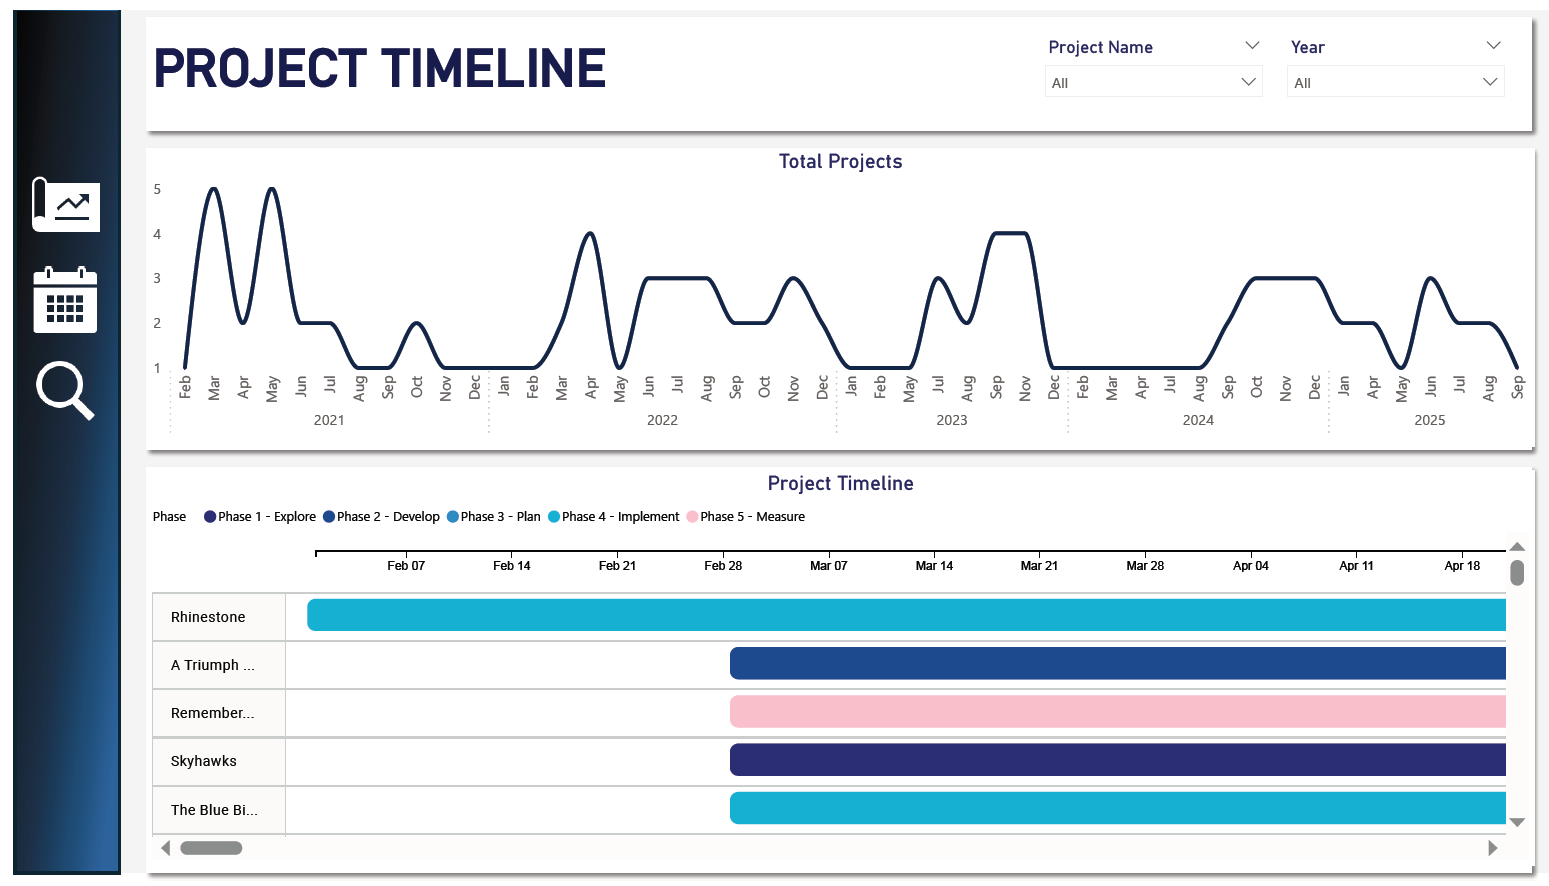

Layout of this report page (visuals, bound fields, positions):
{"tool":"powerbi","page":{"name":"Timeline","canvas":[1280,720],"ordinal":1},"visuals":[{"type":"textbox","box":[109.6,17.3,698.3,83.7],"z":0},{"type":"slicer","fields":{"Values":["Data.Project Name"]},"box":[844,17.3,200.5,63.5],"z":1},{"type":"slicer","fields":{"Values":["Date Table.Year"]},"box":[1044.6,17.3,200.5,63.5],"z":2},{"type":"lineChart","title":"Total Projects","fields":{"Y":["_Measures.Total Projects"],"Category":["Date Table.Year","Date Table.Month Name"]},"box":[109.6,114,1149.9,246.7],"z":3},{"type":"Gantt1448688115699","title":"Project Timeline","fields":{"EndDate":["Min(Data.End Date)"],"StartDate":["Data.Start Date"],"Completion":["Sum(Data.Completion%)"],"Legend":["Data.Phase"],"Task":["Data.Project Name"]},"box":[109.6,380.9,1149.9,327.5],"z":4},{"type":"image","box":[10.1,125.5,66.4,73.6],"z":5},{"type":"image","box":[8.7,199.1,67.8,82.2],"z":6},{"type":"image","box":[8.7,275.6,67.8,79.4],"z":7}]}

Visuals, with their boxes in screenshot pixels (x1, y1, x2, y2), scaled from the page's 1280x720 canvas onto the 1549x886 screenshot:
textbox: [left=133, top=21, right=978, bottom=124]
slicer - Data.Project Name: [left=1021, top=21, right=1264, bottom=99]
slicer - Date Table.Year: [left=1264, top=21, right=1507, bottom=99]
"Total Projects" lineChart: [left=133, top=140, right=1524, bottom=444]
"Project Timeline" Gantt1448688115699: [left=133, top=469, right=1524, bottom=872]
image: [left=12, top=154, right=93, bottom=245]
image: [left=11, top=245, right=93, bottom=346]
image: [left=11, top=339, right=93, bottom=437]
